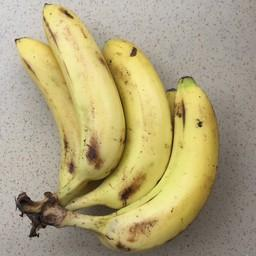Banana Ripe: (77, 65, 220, 256), (69, 23, 176, 223), (37, 0, 126, 208), (11, 28, 90, 206)
